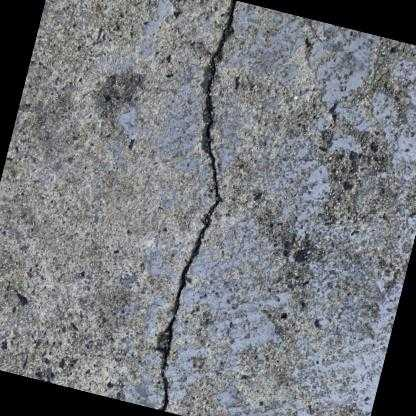crack: (161, 0, 236, 411)
